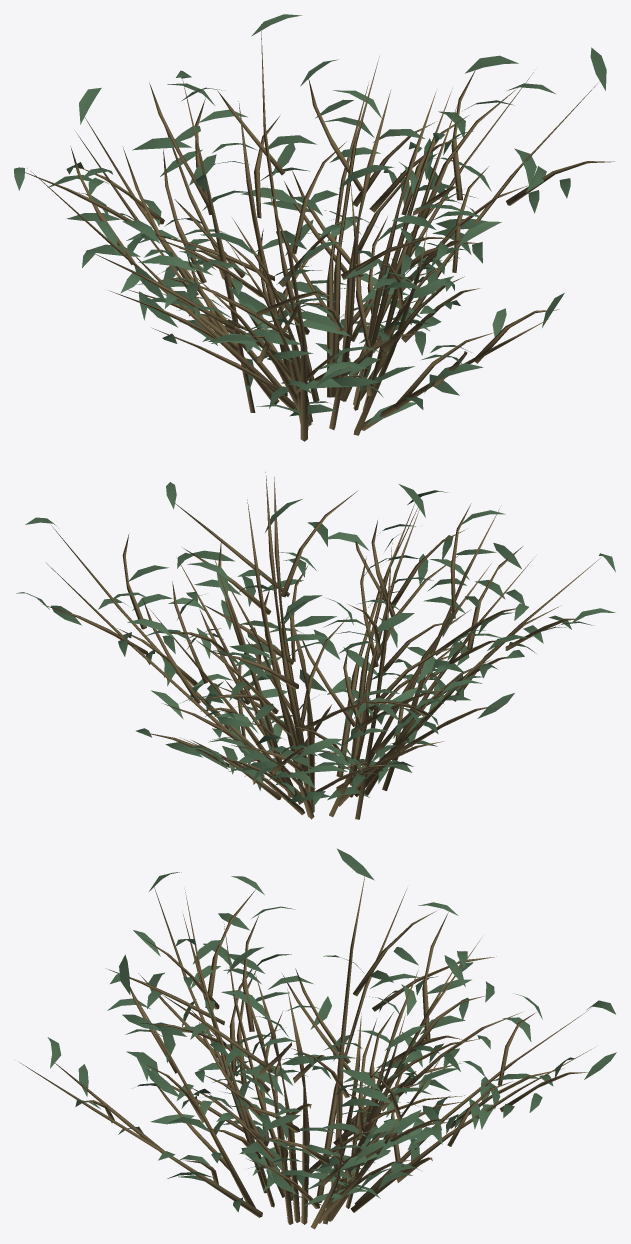
Rendered from Romarin_Jeune_LOD2.fbx.
3 views of the same model, one above another, from view 1: azimuth 30°, elevation 25°; view 2: azimuth 150°, elevation 25°; view 3: azimuth 270°, elevation 25° (orthographic). The views are drawn at different scales.
Visible parts, largest first — view 1: Romarin_Jeune_LOD2; view 2: Romarin_Jeune_LOD2; view 3: Romarin_Jeune_LOD2.
Part boxes in pixels (x1,y1,x2,y2): Romarin_Jeune_LOD2: [14, 14, 614, 441]; Romarin_Jeune_LOD2: [16, 472, 615, 819]; Romarin_Jeune_LOD2: [19, 848, 616, 1229].
Size of the model in its own units: 61.19 by 35.12 by 62.21.
